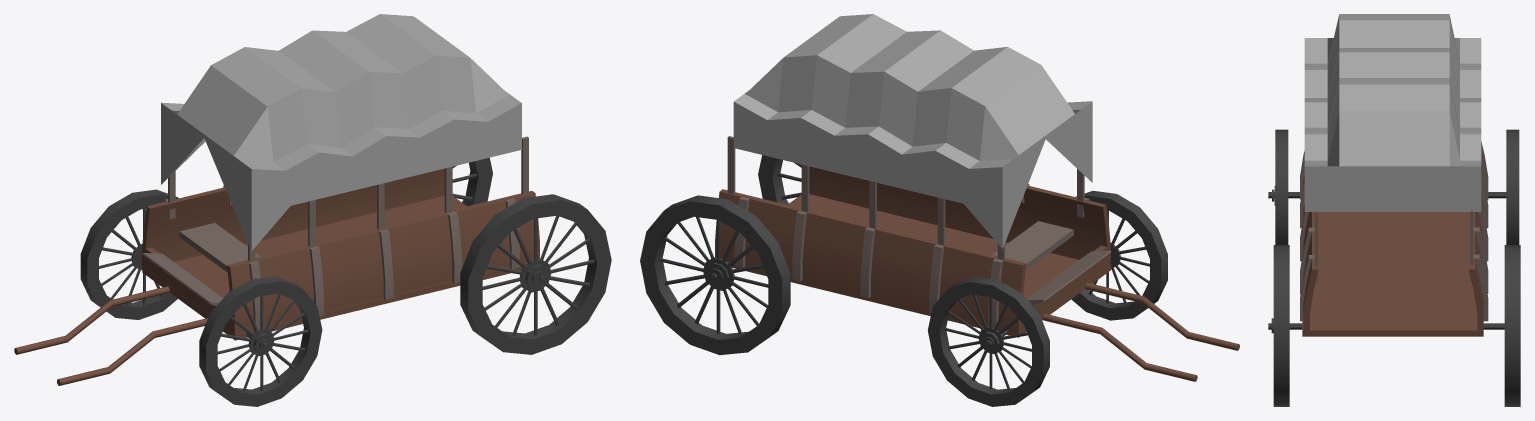
File: west_caravan.fbx
The picture shows the model from 3 angles, left to right: view 1: azimuth 30°, elevation 25°; view 2: azimuth 150°, elevation 25°; view 3: azimuth 270°, elevation 25°; orthographic projection. The views are drawn at different scales.
Parts seen in each view (by area): view 1: pCylinder49; view 2: pCylinder49; view 3: pCylinder49.
Part boxes in pixels (x1,y1,x2,y2): pCylinder49: (14,14,611,406); pCylinder49: (640,14,1239,406); pCylinder49: (1268,14,1520,406).
Size of the model in its own units: 7.48 by 4.03 by 3.27.
